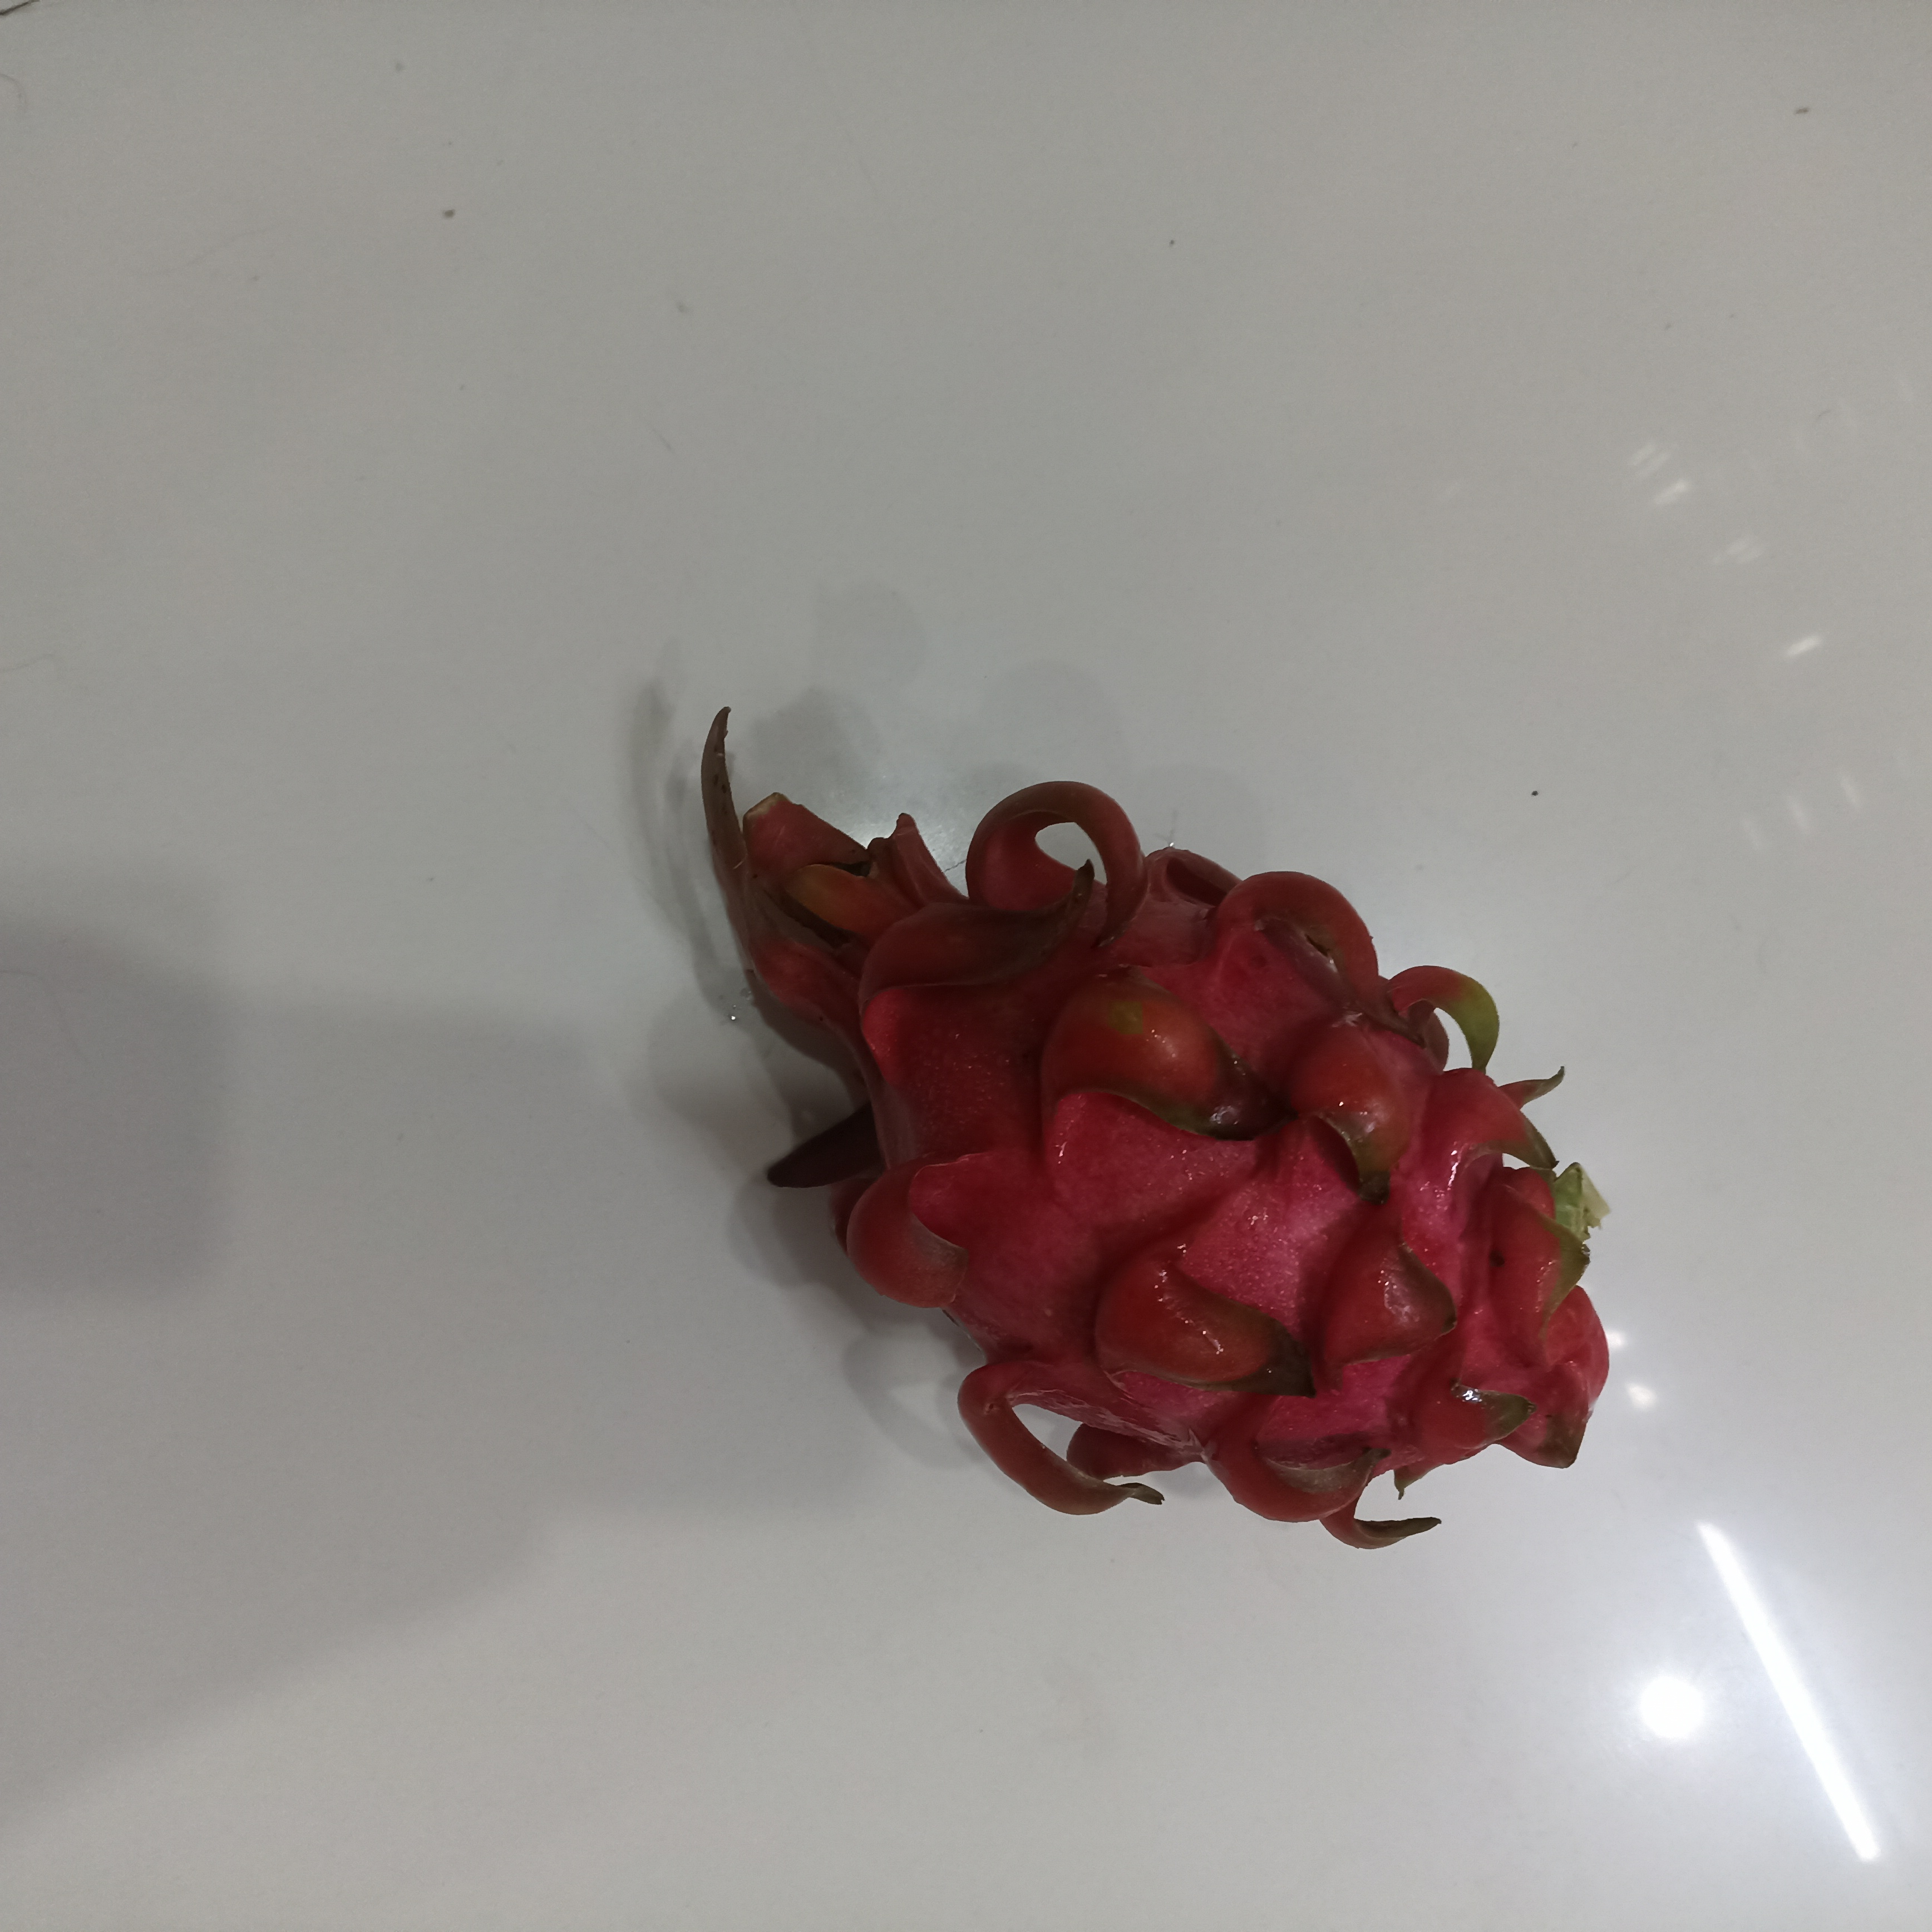Thanh long: (717, 809, 1612, 1474)
